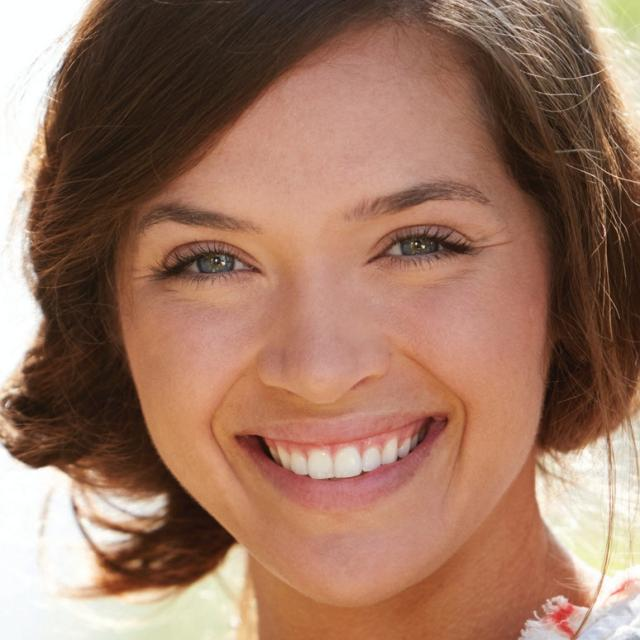Normal: (117, 21, 557, 605)
